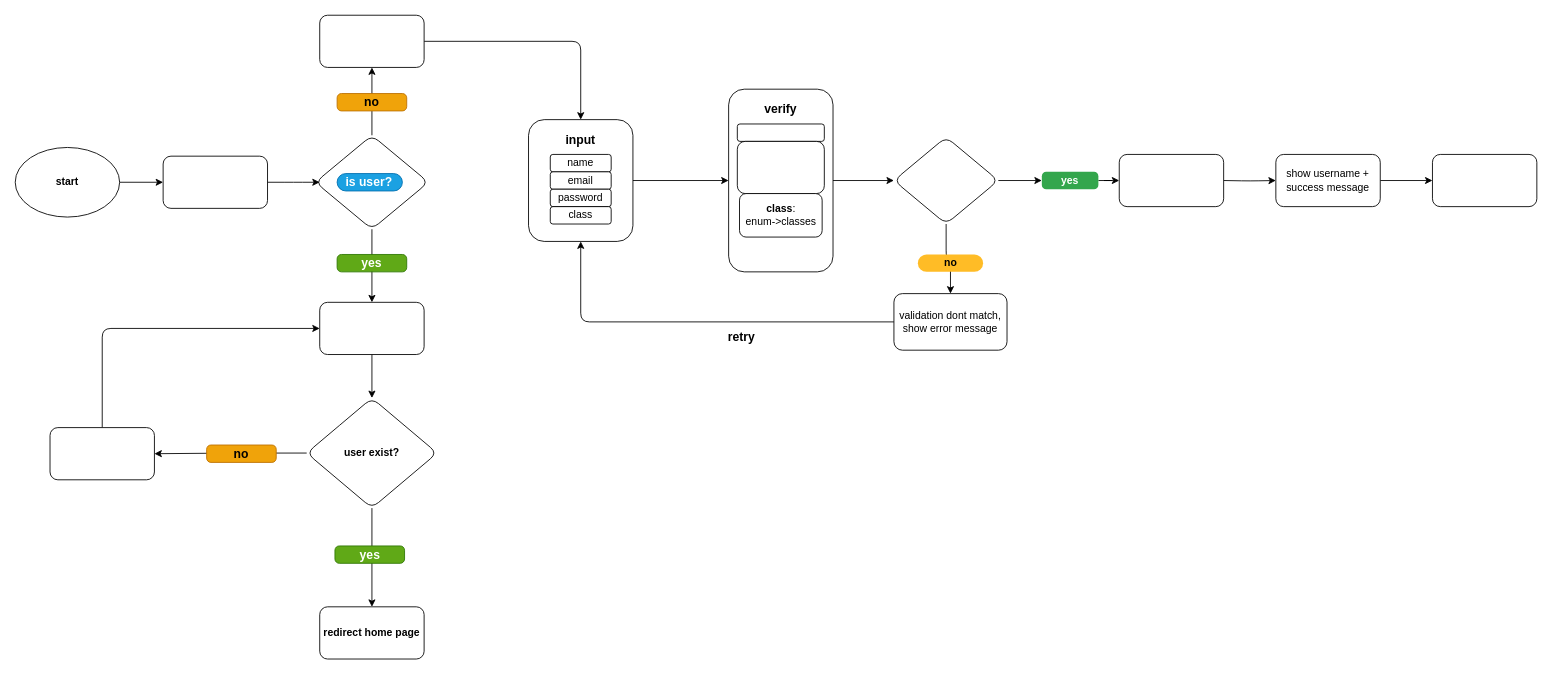
Image size: 1552x674. Some labels were removed from this diagram. The shapes that lost their labels are listed below. From the top down, each one's centre as x and y in pixels, then its label:
the point at 371,40: create account
the point at 780,132: is user unique?
the point at 215,181: login page
the point at 780,167: password min 10 char, letters and numbers
the point at 945,180: input matches requisites?
the point at 1171,180: insert new user in database.user
the point at 1484,180: redirect login page
the point at 371,328: login
the point at 101,453: wrong user or password
